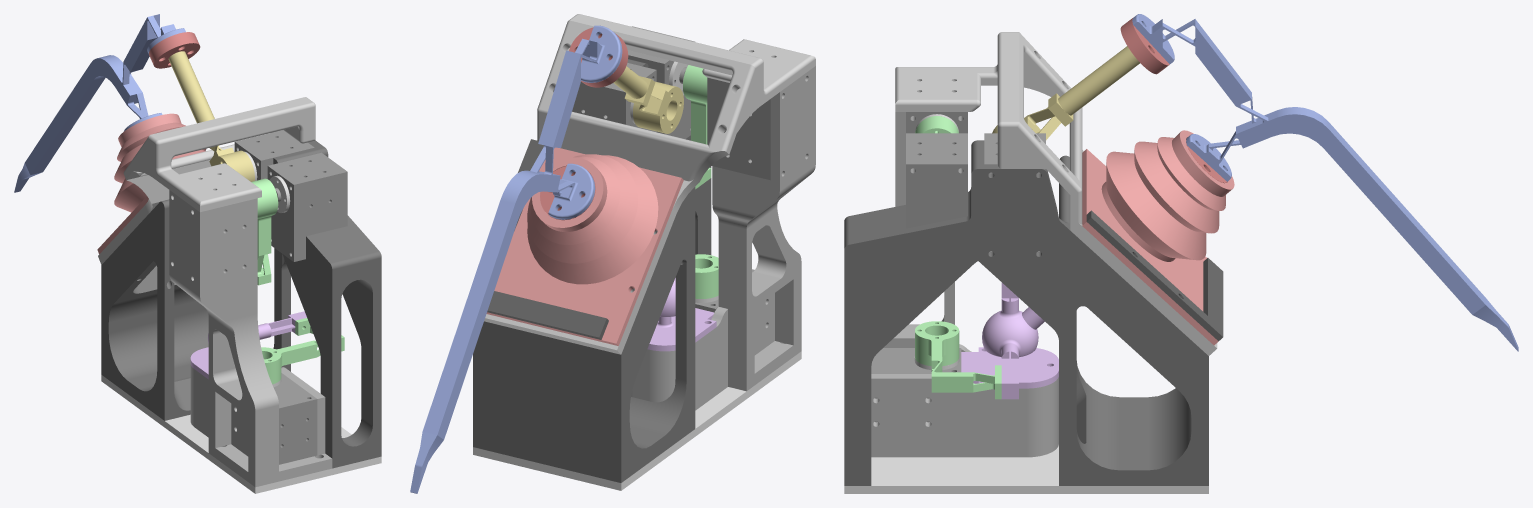
3 renders of one model, left to right at view 1: azimuth 30°, elevation 25°; view 2: azimuth 150°, elevation 25°; view 3: azimuth 270°, elevation 25°, orthographic. The views are drawn at different scales.
Parts seen in each view (by area): view 1: ServoHolderTwo_101.2-1, ServoHolder_101-1, ServoHolderTwo_101.3-2, XL430-5, EndEffector_105.3-1, XL430-2, BellowBottom-1, ConnectingBase_104-1, KneePitchLinkage-1, XL430-6, YawLinkage_103-3, YawLinkage_103-1 (+2 smaller); view 2: ServoHolderTwo_101.2-1, ServoHolder_101-1, BellowBottom-1, ServoHolderTwo_101.3-2, EndEffector_105.3-1, ConnectingBase_104-1, XL430-1, RetainerBottom-1, KneePitchLinkage-1, XL430-6, Output_102-1, YawLinkage_103-3 (+4 smaller); view 3: ServoHolderTwo_101.2-1, BellowBottom-1, ServoHolder_101-1, ServoHolderTwo_101.3-2, EndEffector_105.3-1, ConnectingBase_104-1, Output_102-1, XL430-5, YawLinkage_103-1, RetainerBottom-1, KneePitchLinkage-1, XL430-2 (+2 smaller).
Part boxes in pixels (x1=…): ServoHolderTwo_101.2-1: x1=101, y1=140, x2=381, y2=468; ServoHolder_101-1: x1=169, y1=190, x2=332, y2=487; ServoHolderTwo_101.3-2: x1=98, y1=97, x2=315, y2=264; XL430-5: x1=267, y1=152, x2=347, y2=261; EndEffector_105.3-1: x1=14, y1=14, x2=185, y2=192; XL430-2: x1=272, y1=373, x2=317, y2=464; BellowBottom-1: x1=97, y1=113, x2=206, y2=254; ConnectingBase_104-1: x1=101, y1=375, x2=381, y2=493; KneePitchLinkage-1: x1=168, y1=51, x2=254, y2=181; XL430-6: x1=234, y1=130, x2=314, y2=180; YawLinkage_103-3: x1=251, y1=178, x2=278, y2=285; YawLinkage_103-1: x1=261, y1=318, x2=344, y2=384; ServoHolderTwo_101.2-1: x1=473, y1=59, x2=711, y2=482; ServoHolder_101-1: x1=631, y1=66, x2=815, y2=410; BellowBottom-1: x1=486, y1=147, x2=683, y2=345; ServoHolderTwo_101.3-2: x1=484, y1=14, x2=815, y2=354; EndEffector_105.3-1: x1=410, y1=25, x2=622, y2=493; ConnectingBase_104-1: x1=473, y1=351, x2=801, y2=490; XL430-1: x1=707, y1=77, x2=770, y2=180; RetainerBottom-1: x1=487, y1=139, x2=608, y2=339; KneePitchLinkage-1: x1=613, y1=66, x2=683, y2=133; XL430-6: x1=572, y1=63, x2=656, y2=132; Output_102-1: x1=647, y1=278, x2=716, y2=351; YawLinkage_103-3: x1=683, y1=65, x2=711, y2=189; ServoHolderTwo_101.2-1: x1=844, y1=140, x2=1208, y2=485; BellowBottom-1: x1=1082, y1=130, x2=1234, y2=345; ServoHolder_101-1: x1=871, y1=112, x2=1058, y2=457; ServoHolderTwo_101.3-2: x1=895, y1=32, x2=1217, y2=355; EndEffector_105.3-1: x1=1132, y1=14, x2=1518, y2=351; ConnectingBase_104-1: x1=844, y1=445, x2=1208, y2=493; Output_102-1: x1=961, y1=282, x2=1058, y2=399; XL430-5: x1=906, y1=133, x2=967, y2=228; YawLinkage_103-1: x1=915, y1=321, x2=1001, y2=399; RetainerBottom-1: x1=1086, y1=210, x2=1223, y2=341; KneePitchLinkage-1: x1=992, y1=46, x2=1139, y2=140; XL430-2: x1=871, y1=348, x2=961, y2=422.
Bounding box in the file's own units: 0.1084 × 0.2186 × 0.3107.
